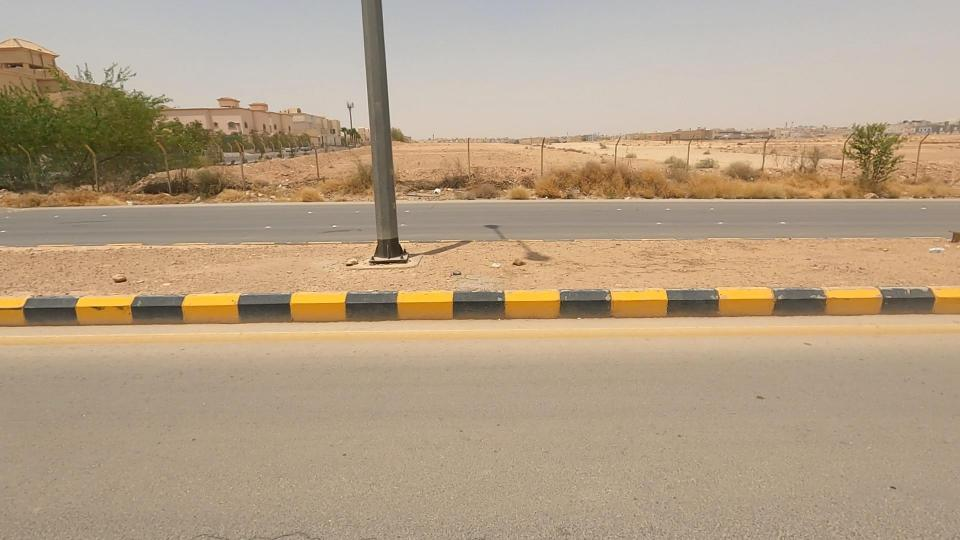CLUTTER_SIDEWALK: (559, 198, 960, 335), (0, 210, 448, 327), (389, 191, 705, 331)
